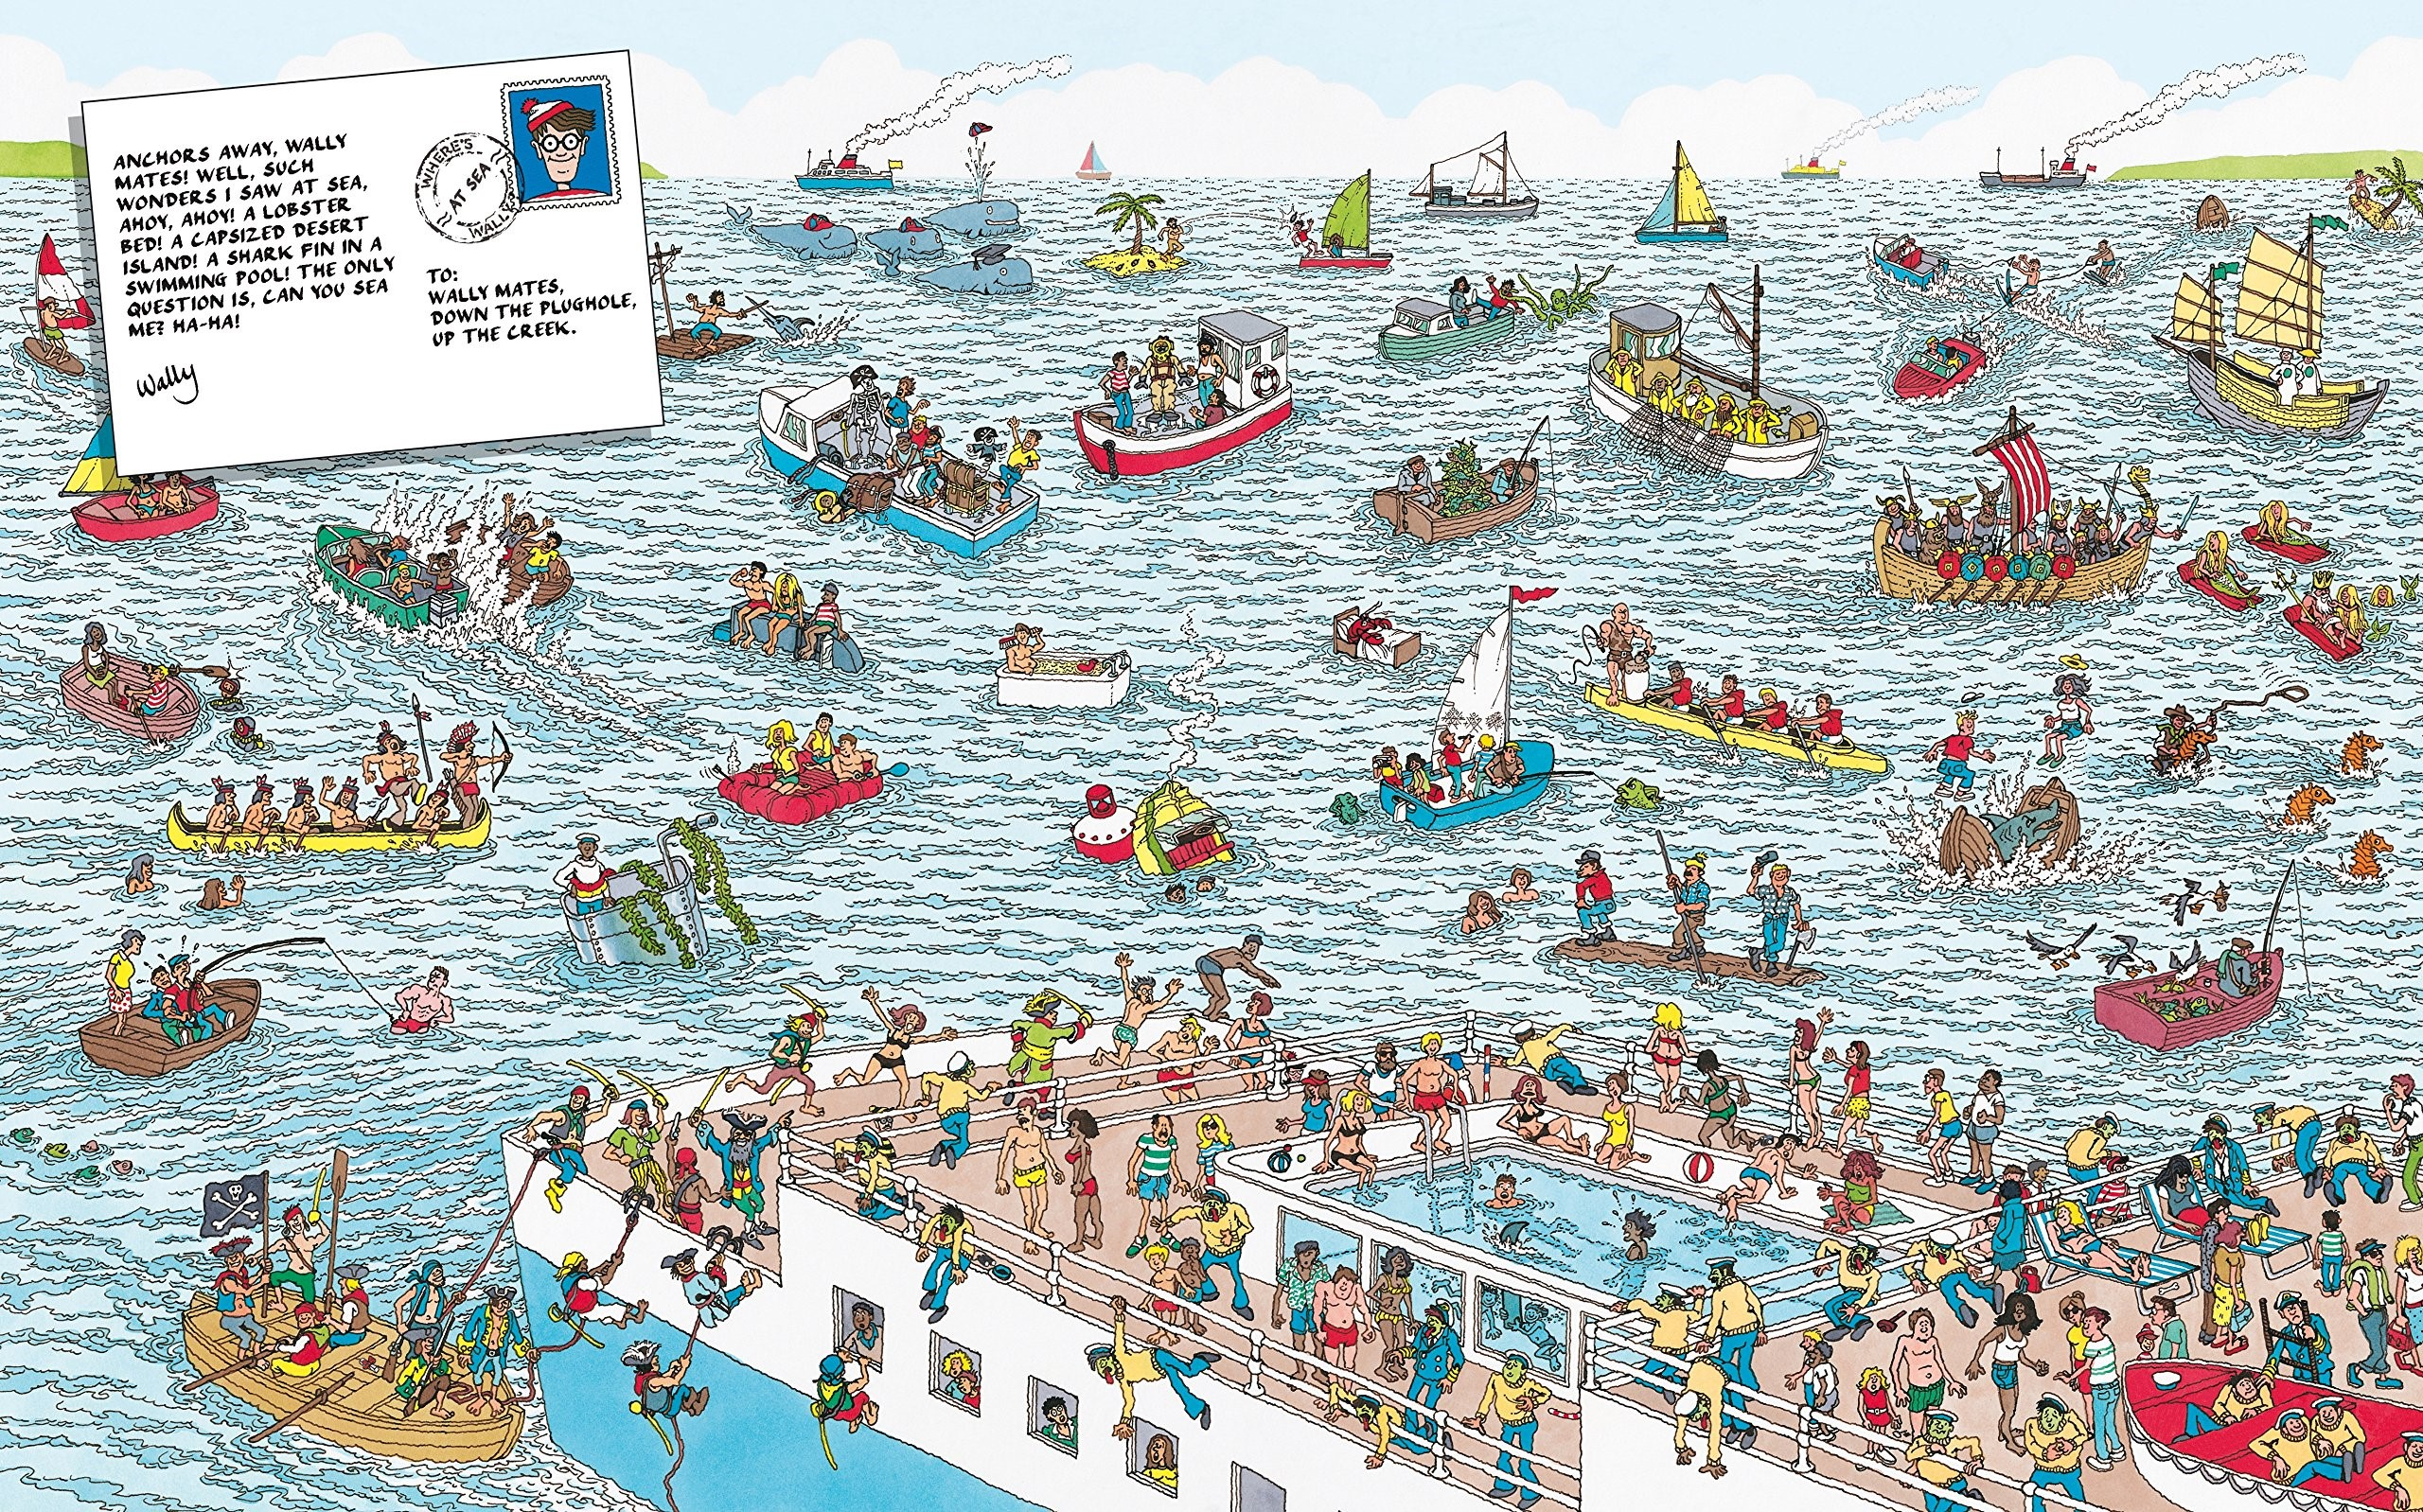waldo: (517, 94, 610, 206), (2099, 1155, 2134, 1233)
